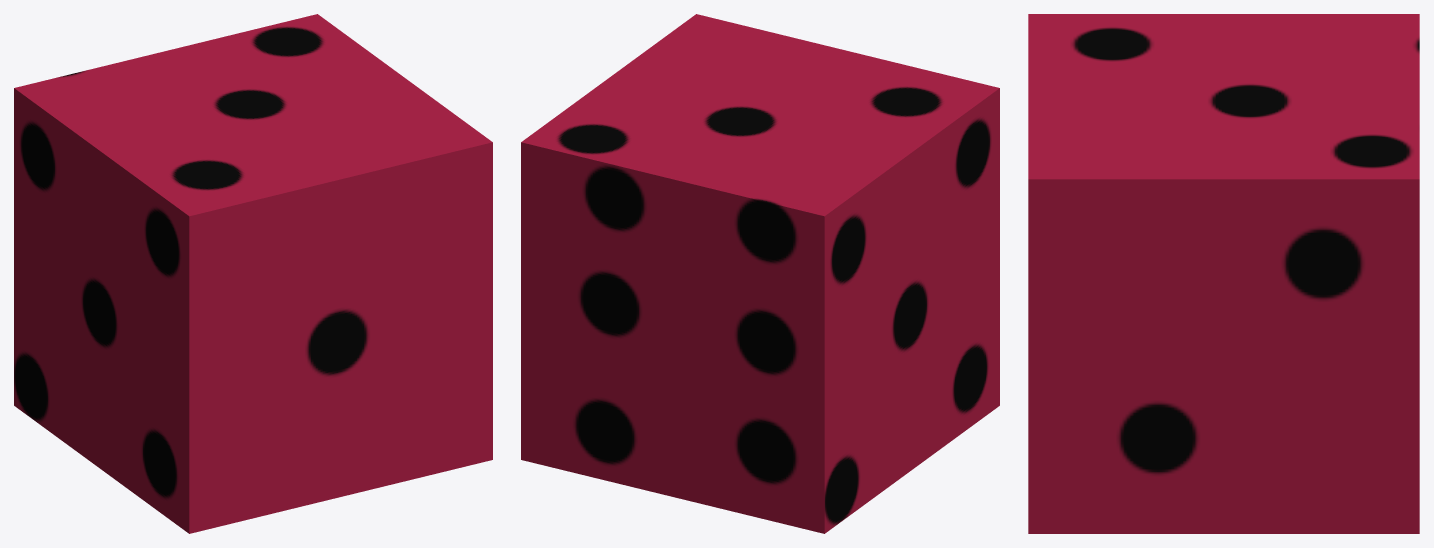
File: dice.fbx
3 views of the same model, side by side, from view 1: azimuth 30°, elevation 25°; view 2: azimuth 150°, elevation 25°; view 3: azimuth 270°, elevation 25° (orthographic). The views are drawn at different scales.
Visible parts, largest first — view 1: pCube4; view 2: pCube4; view 3: pCube4.
Part boxes in pixels (x1,y1,x2,y2): pCube4: [14, 14, 492, 533]; pCube4: [521, 14, 999, 533]; pCube4: [1028, 14, 1419, 533].
Bounding box in the file's own units: 1 × 1 × 1.
